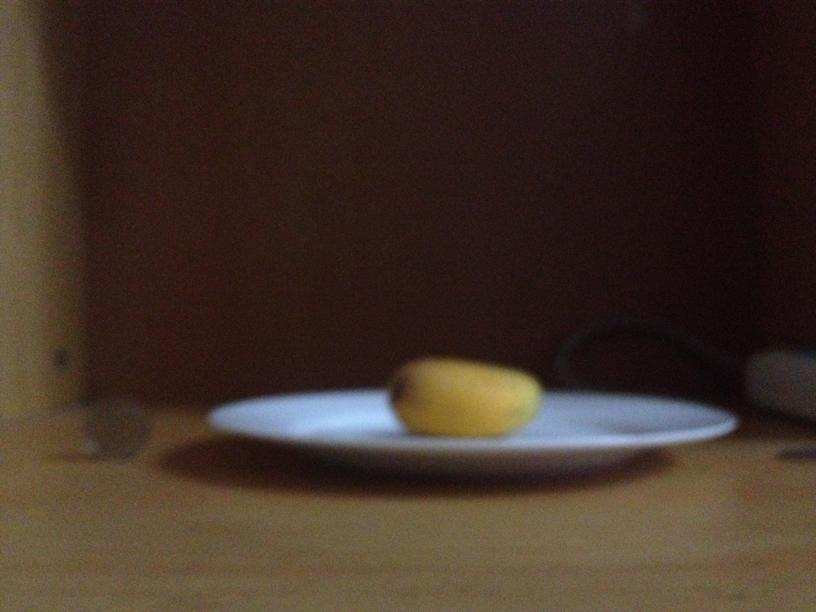coin: (388, 353, 543, 436)
mango: (388, 353, 543, 436)
